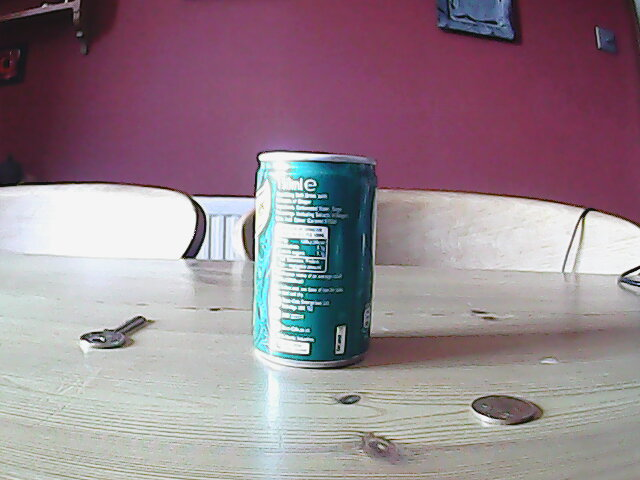Can: (250, 148, 384, 373)
Coin: (463, 394, 546, 428)
Key: (76, 312, 149, 354)
